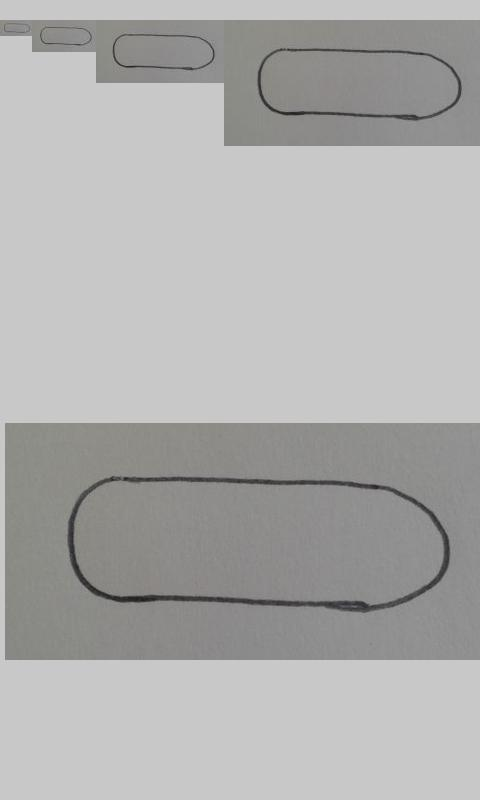chip: (67, 474, 452, 613), (257, 48, 462, 121), (111, 34, 215, 70), (39, 26, 93, 46), (3, 22, 31, 34)
